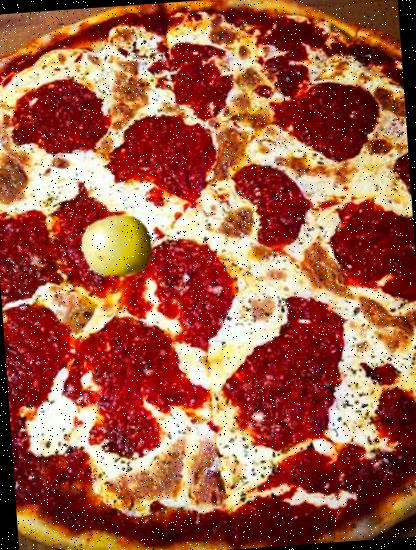Apple: (78, 208, 154, 284)
